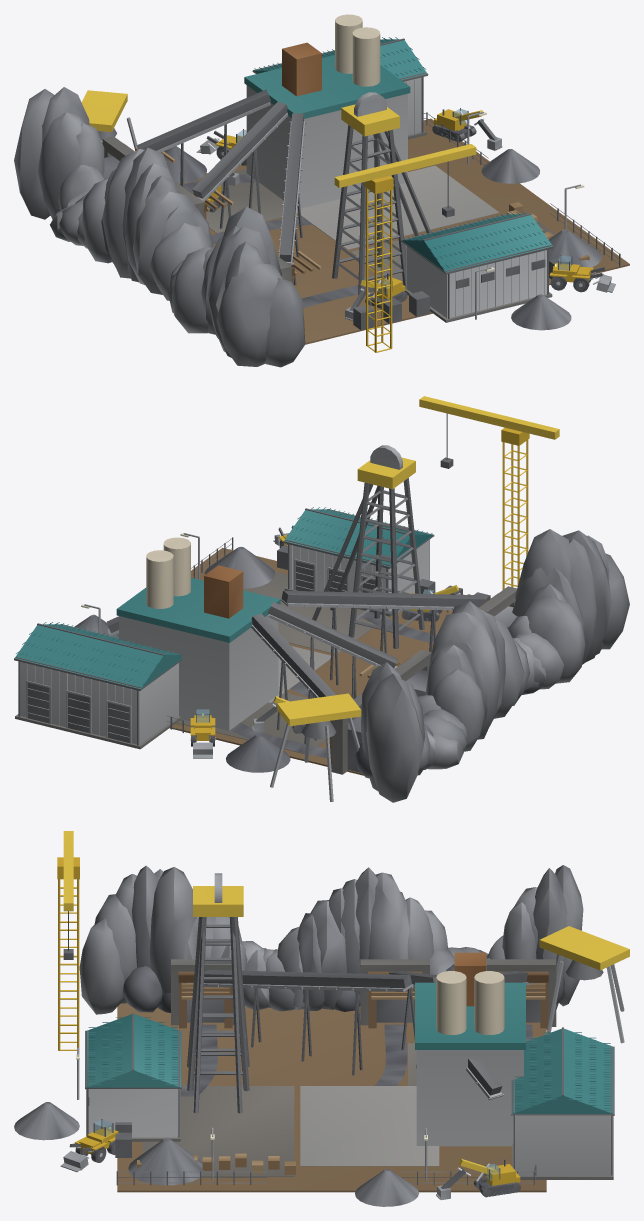
File: Mine_P3.fbx
3 renders of one model, top to bottom at view 1: azimuth 30°, elevation 25°; view 2: azimuth 150°, elevation 25°; view 3: azimuth 270°, elevation 25°, orthographic. The views are drawn at different scales.
Parts seen in each view (by area): view 1: Mine.Cliff, Mine.Apron, Mine.Plant, Mine.Winder, Mine.Headframe, Mine.Crane, Mine.Conv1, Mine.Crusher, Mine.Conv2, Mine.Conv0, Mine.Clutter, Mine.LoadGantry (+13 smaller); view 2: Mine.Cliff, Mine.Plant, Mine.Crusher, Mine.Apron, Mine.Headframe, Mine.Winder, Mine.Crane, Mine.Conv0, Mine.LoadGantry, Mine.Conv1, Mine.Conv2, Mine.Spoil2 (+8 smaller); view 3: Mine.Apron, Mine.Cliff, Mine.Plant, Mine.Crusher, Mine.Winder, Mine.Headframe, Mine.Conv0, Mine.LoadGantry, Mine.Crane, Mine.Adit1, Mine.Adit0, Mine.Adit2 (+11 smaller).
Part boxes in pixels (left/top/right/bottom): Mine.Cliff: left=14, top=87, right=305, bottom=367; Mine.Apron: left=179, top=118, right=629, bottom=344; Mine.Plant: left=244, top=14, right=410, bottom=209; Mine.Winder: left=401, top=212, right=553, bottom=322; Mine.Headframe: left=332, top=92, right=431, bottom=295; Mine.Crane: left=334, top=144, right=476, bottom=352; Mine.Conv1: left=192, top=101, right=288, bottom=228; Mine.Crusher: left=252, top=37, right=428, bottom=139; Mine.Conv2: left=136, top=89, right=270, bottom=191; Mine.Conv0: left=278, top=113, right=306, bottom=285; Mine.Clutter: left=353, top=202, right=589, bottom=330; Mine.LoadGantry: left=81, top=90, right=137, bottom=148; Mine.Cliff: left=355, top=529, right=629, bottom=802; Mine.Plant: left=116, top=537, right=280, bottom=730; Mine.Crusher: left=14, top=622, right=182, bottom=749; Mine.Apron: left=170, top=547, right=452, bottom=775; Mine.Headframe: left=312, top=445, right=424, bottom=648; Mine.Winder: left=283, top=507, right=434, bottom=616; Mine.Crane: left=419, top=396, right=559, bottom=589; Mine.Conv0: left=280, top=590, right=485, bottom=685; Mine.LoadGantry: left=270, top=693, right=365, bottom=801; Mine.Conv1: left=268, top=601, right=398, bottom=699; Mine.Conv2: left=251, top=613, right=335, bottom=744; Mine.Spoil2: left=226, top=734, right=290, bottom=772; Mine.Apron: left=117, top=1003, right=546, bottom=1192; Mine.Cliff: left=79, top=865, right=583, bottom=1014; Mine.Plant: left=415, top=952, right=525, bottom=1146; Mine.Crusher: left=511, top=1027, right=614, bottom=1179; Mine.Winder: left=85, top=1013, right=181, bottom=1141; Mine.Headframe: left=187, top=873, right=249, bottom=1113; Mine.Conv0: left=203, top=970, right=413, bottom=1075; Mine.LoadGantry: left=539, top=926, right=629, bottom=1043; Mine.Crane: left=57, top=831, right=79, bottom=1050; Mine.Adit1: left=360, top=959, right=429, bottom=1028; Mine.Adit0: left=171, top=959, right=234, bottom=1028; Mine.Adit2: left=486, top=959, right=556, bottom=1029.
Size of the model in its own units: 8686 by 3910 by 9753.
